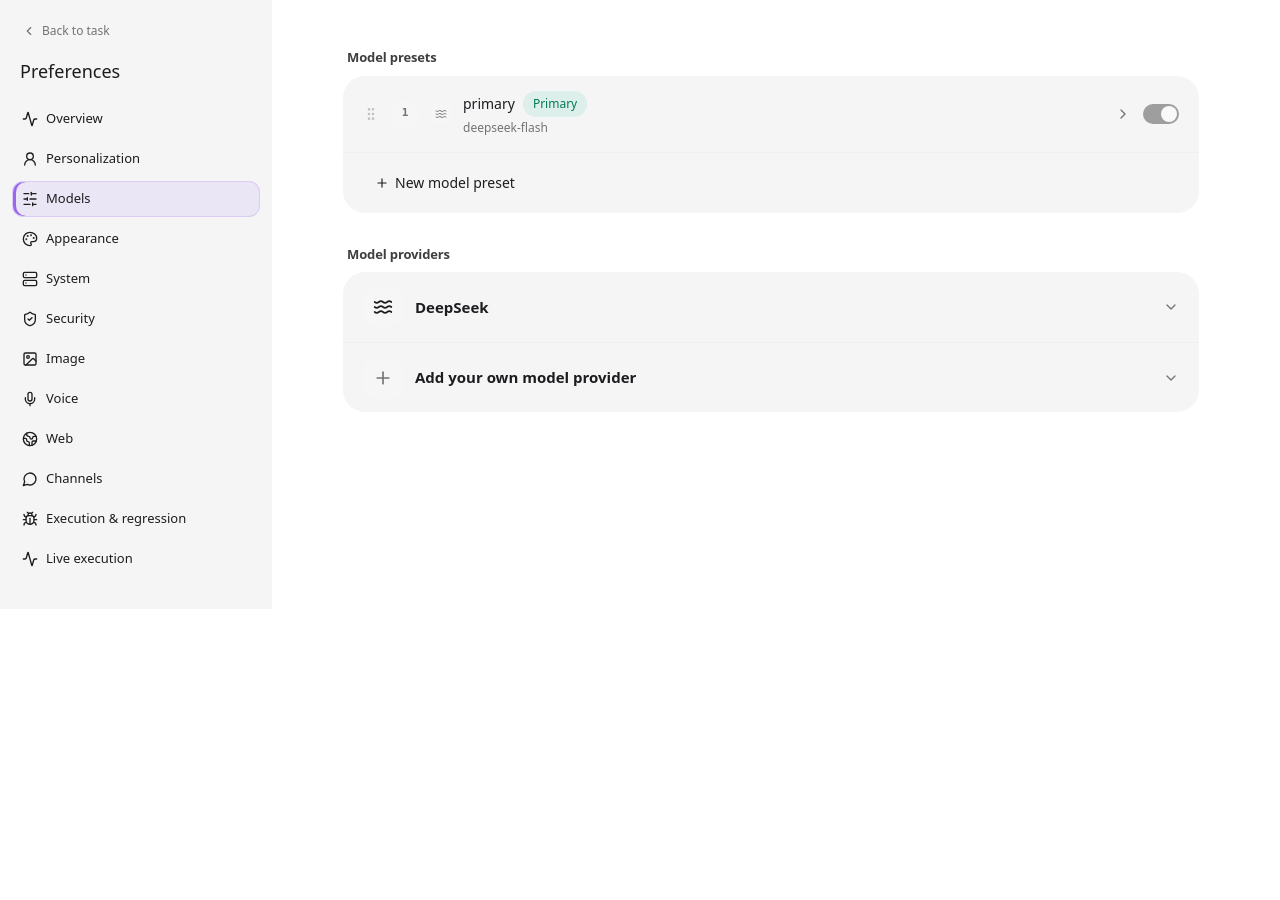
Test: Settings models › warns when DeepSeek high reasoning shares a low output budget
Step 1. Click the button "1 primary Primary deepseek-flash" → click(489, 104), box x1=391 y1=90 x2=1131 y2=136
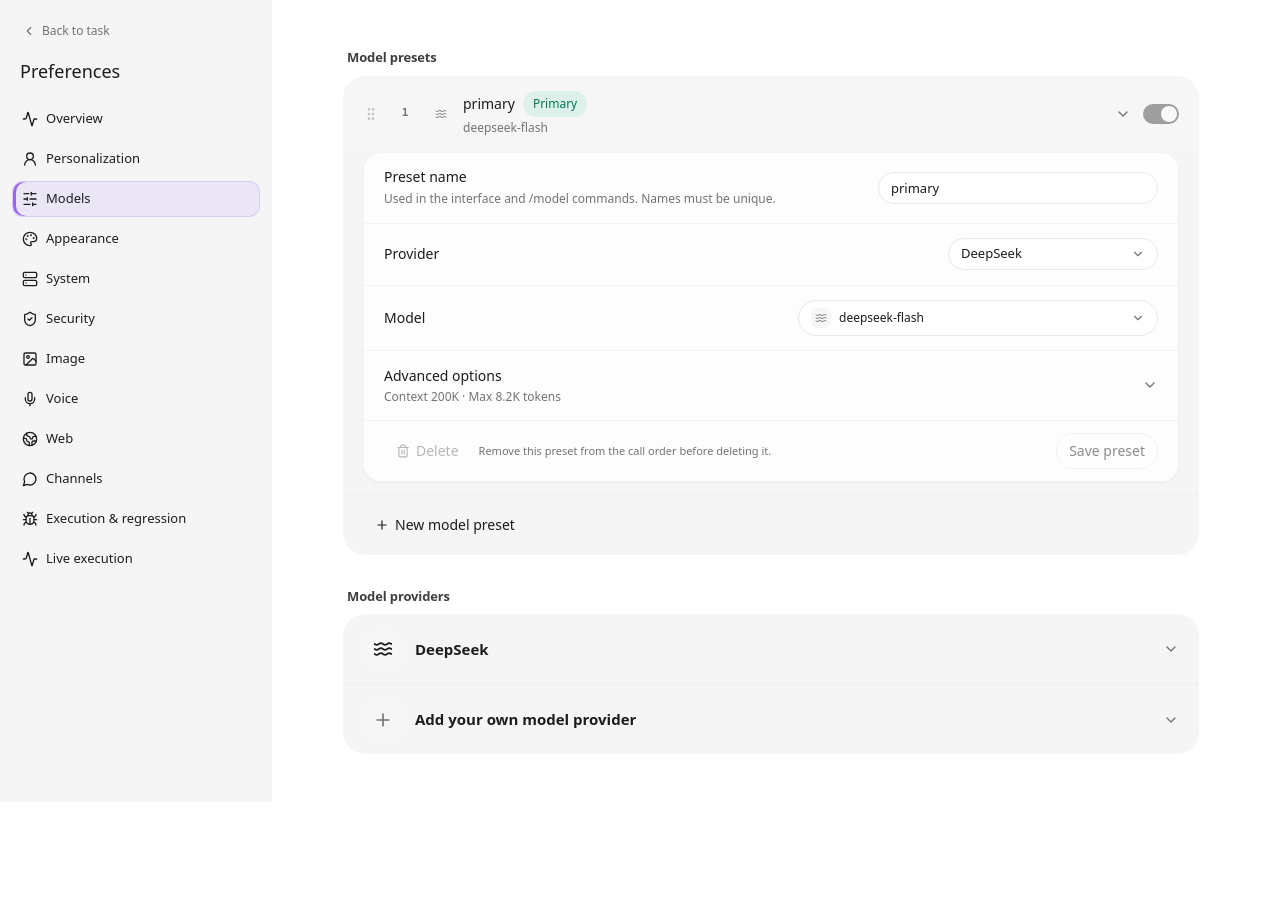
Step 2. Click the button "Advanced options Context 200K · Max 8.2K tokens" → click(443, 375), box x1=364 y1=350 x2=1178 y2=420
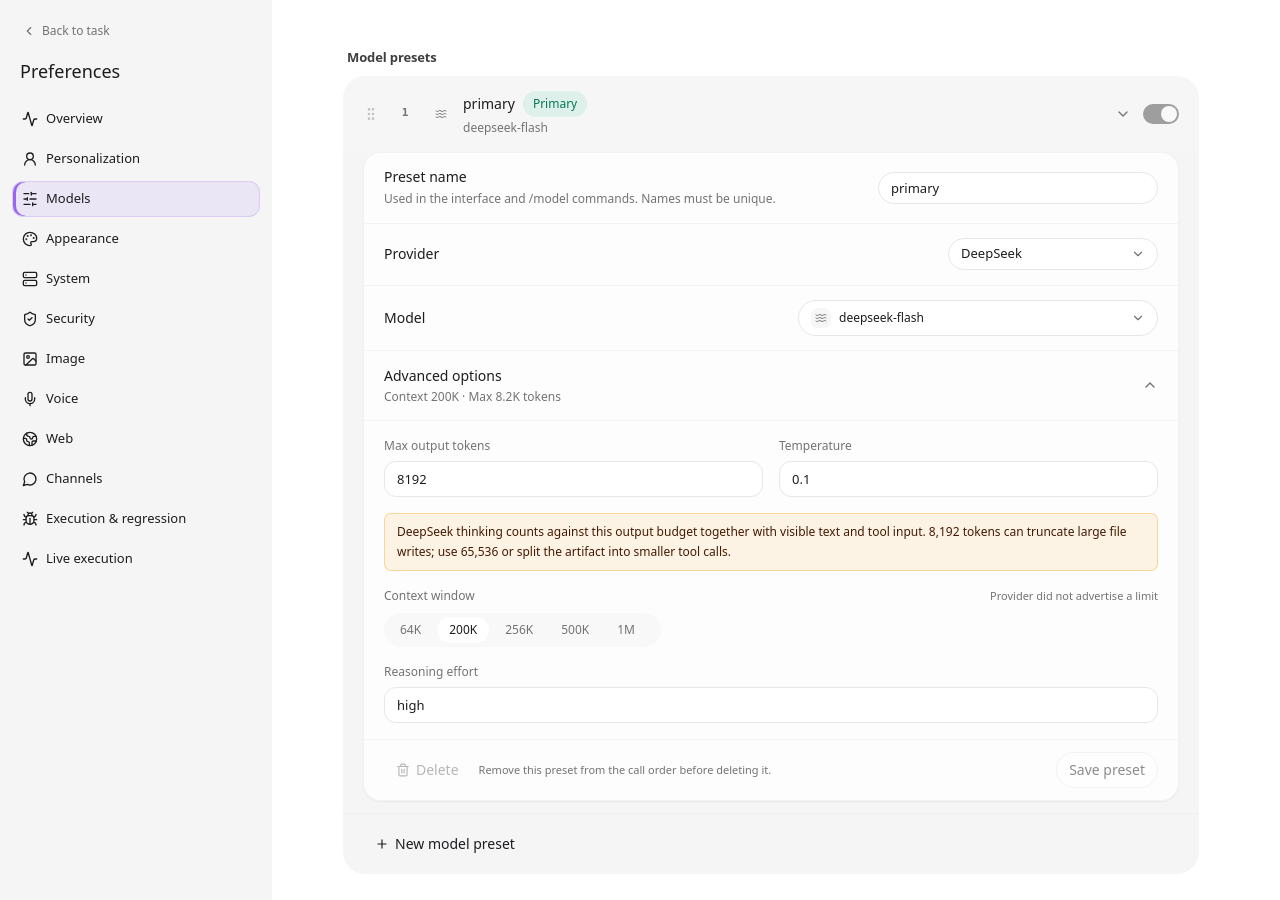
expect the message shows "DeepSeek thinking counts against this output budget": met, box x1=397 y1=522 x2=1127 y2=560
